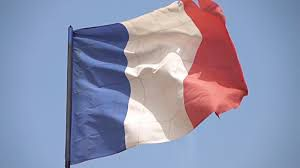French Flag: (72, 1, 247, 165)
